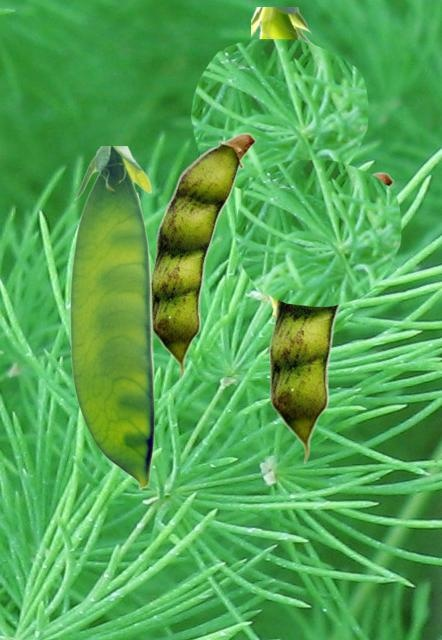pea: (269, 171, 393, 463), (69, 146, 153, 489), (151, 132, 255, 379), (251, 7, 313, 315)
